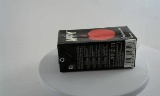appy: (52, 25, 129, 72)
